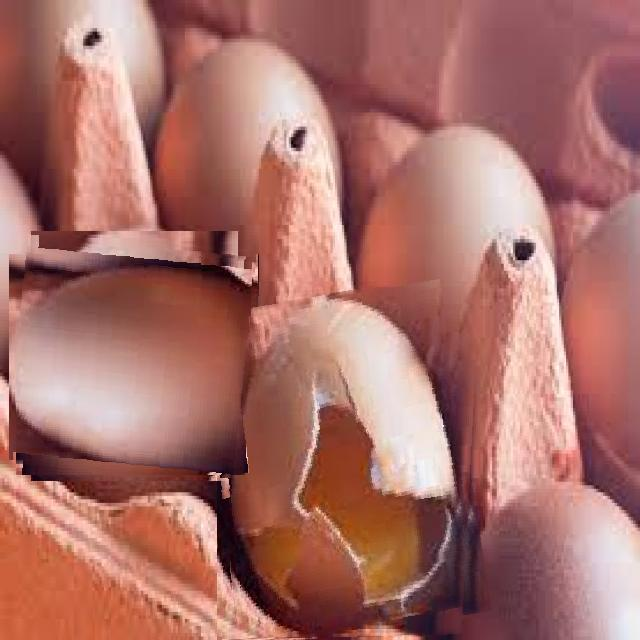biodegradable: (217, 287, 480, 640), (16, 238, 253, 475)
